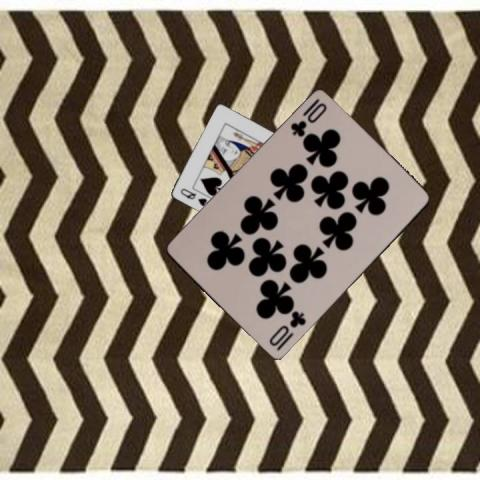10c: (266, 308, 308, 353), (287, 96, 328, 139)
Qs: (178, 186, 209, 207)
